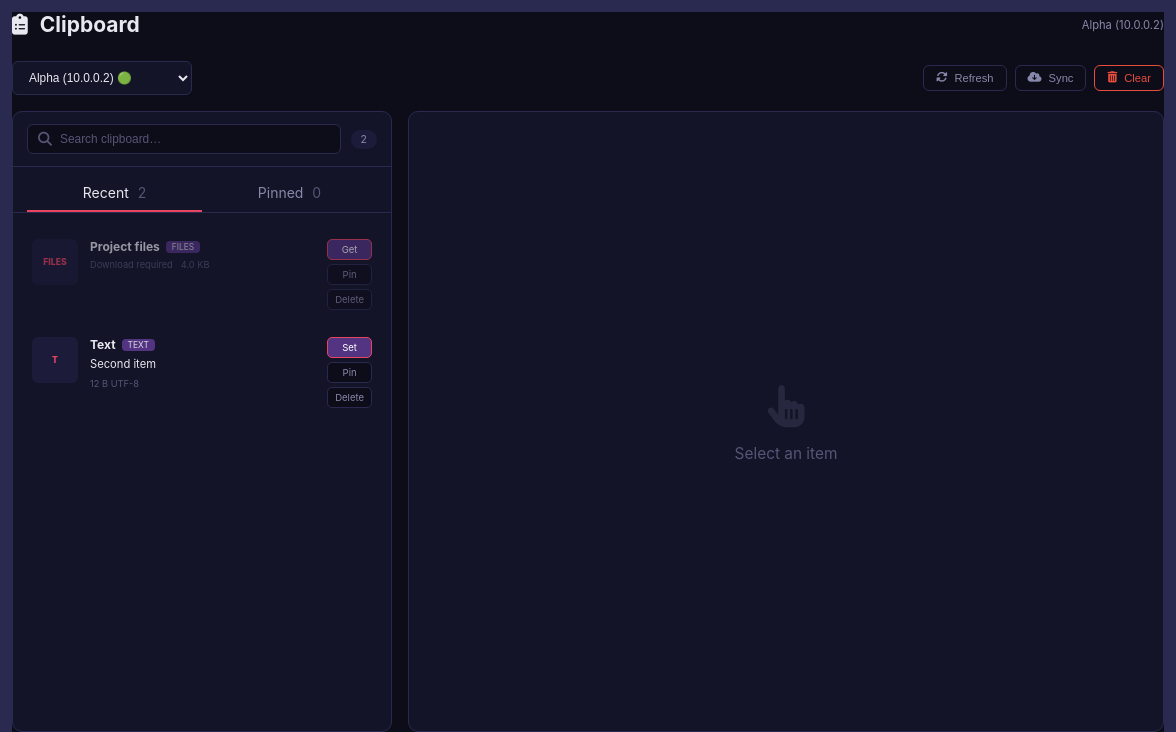
ClipboardView › keeps the list mounted when a refresh returns no items
This screenshot has width=1176, height=732.
Step 1. Click the button "Refresh" → (965, 78), box [923,65,1007,91]
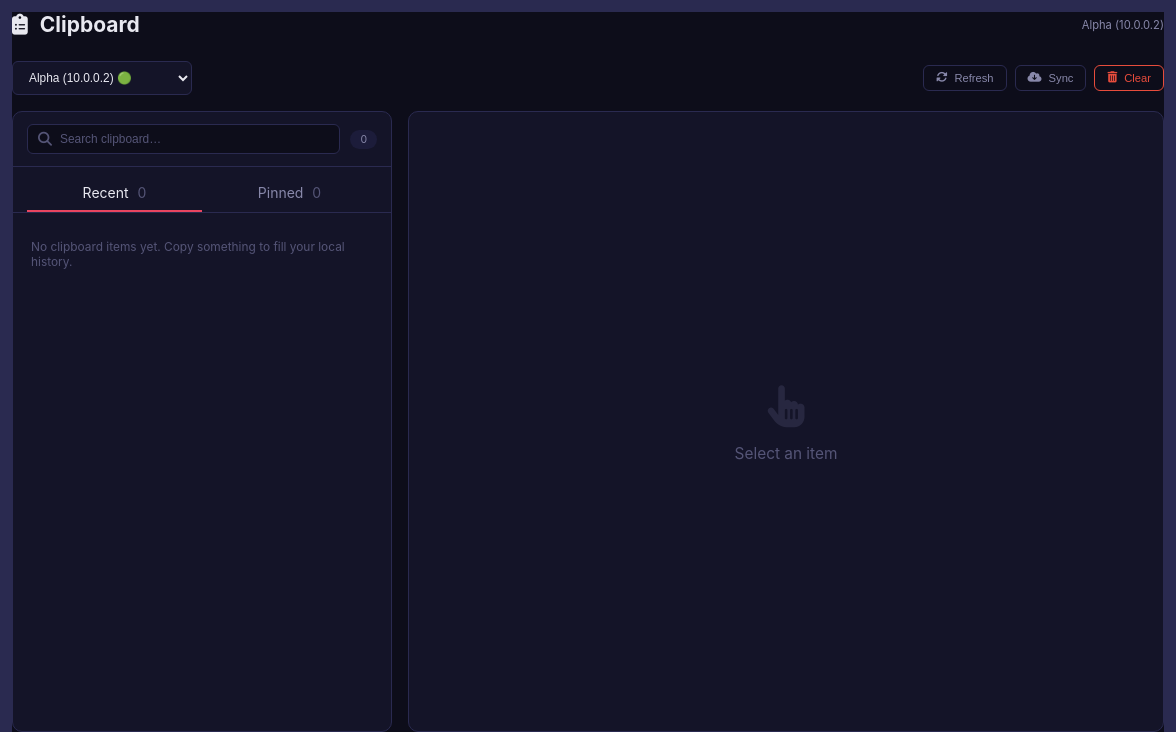
Result: the text "No clipboard items yet. Copy something to fill your local history." is shown at [31,239,345,269]
